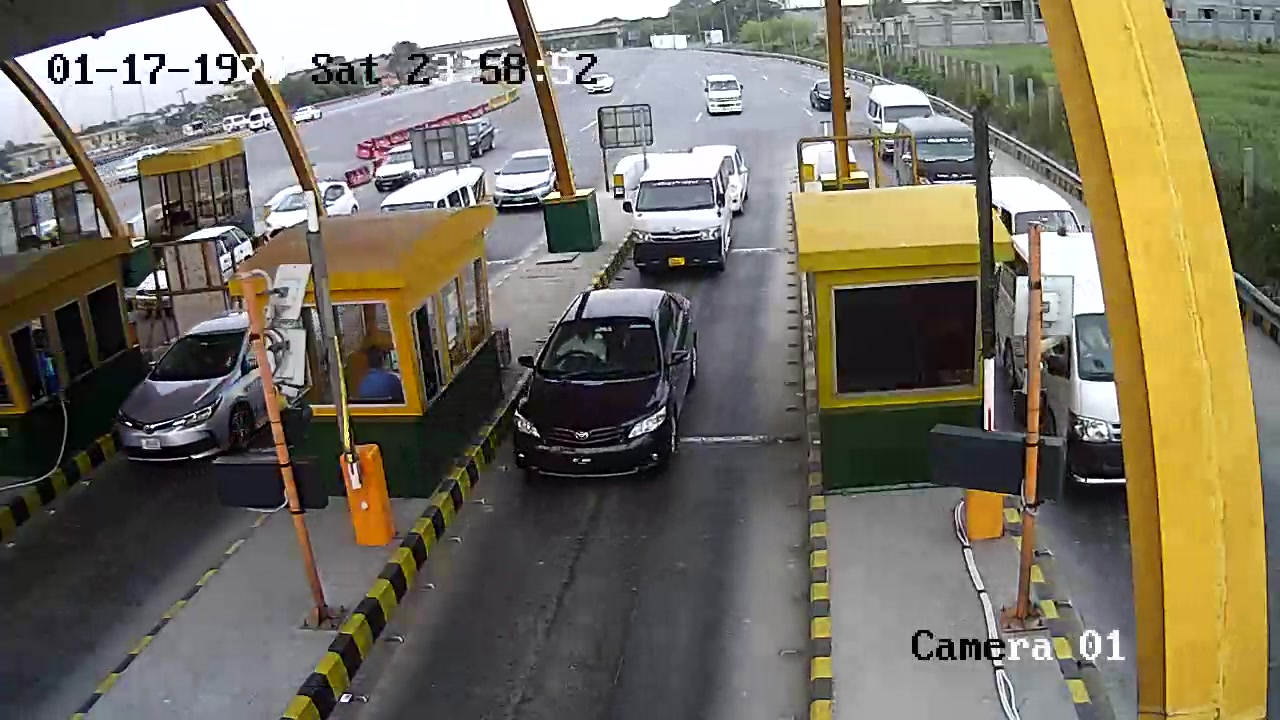F1: (496, 287, 705, 524)
